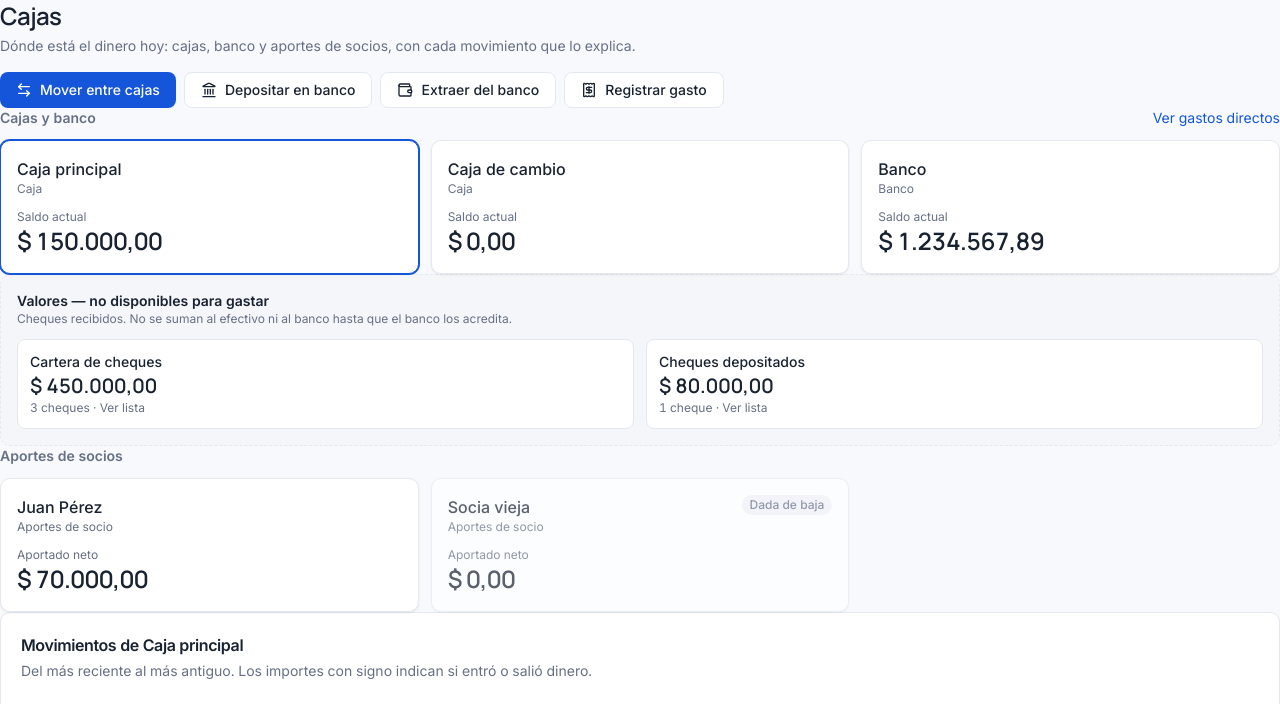
CashBoard › sends a transfer with its request id and business date, then reloads balances from the API
Click the button "Mover entre cajas".
click(88, 90)  # box [0,72,176,108]
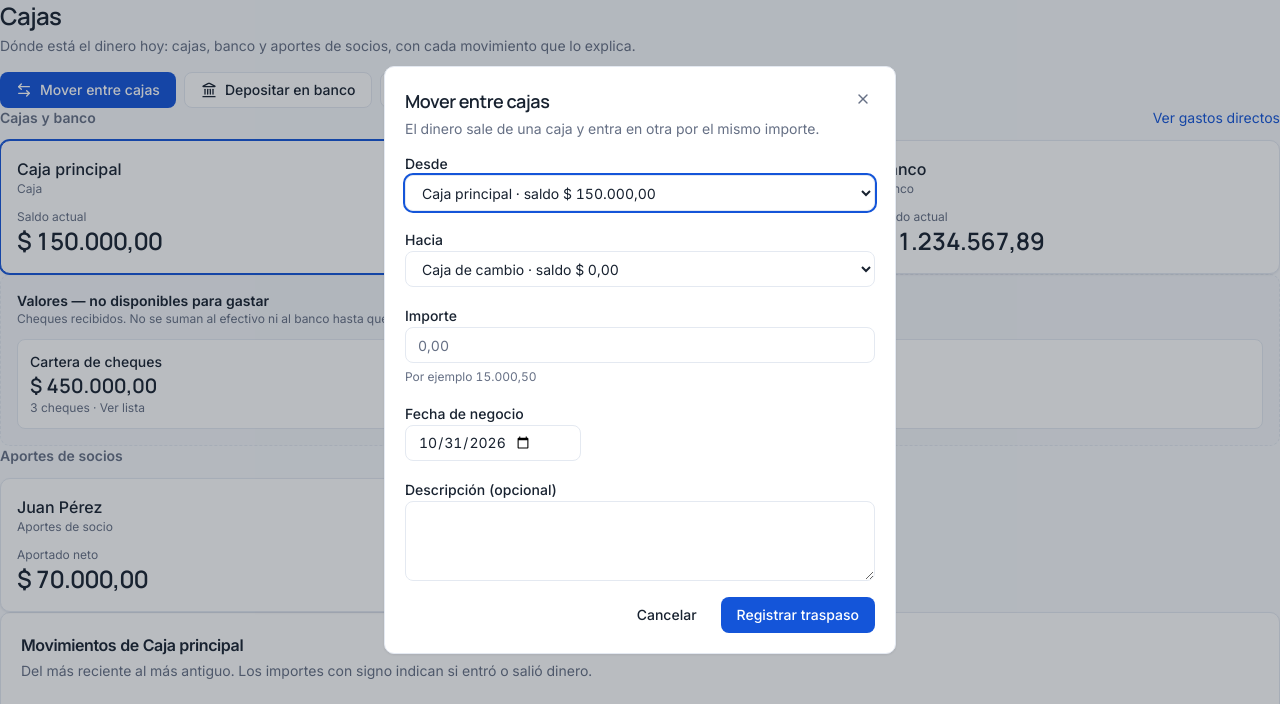
Type "1.500,50" into the field labelled "Importe".
click(640, 345); type("1.500,50")  # box [405,327,875,363]
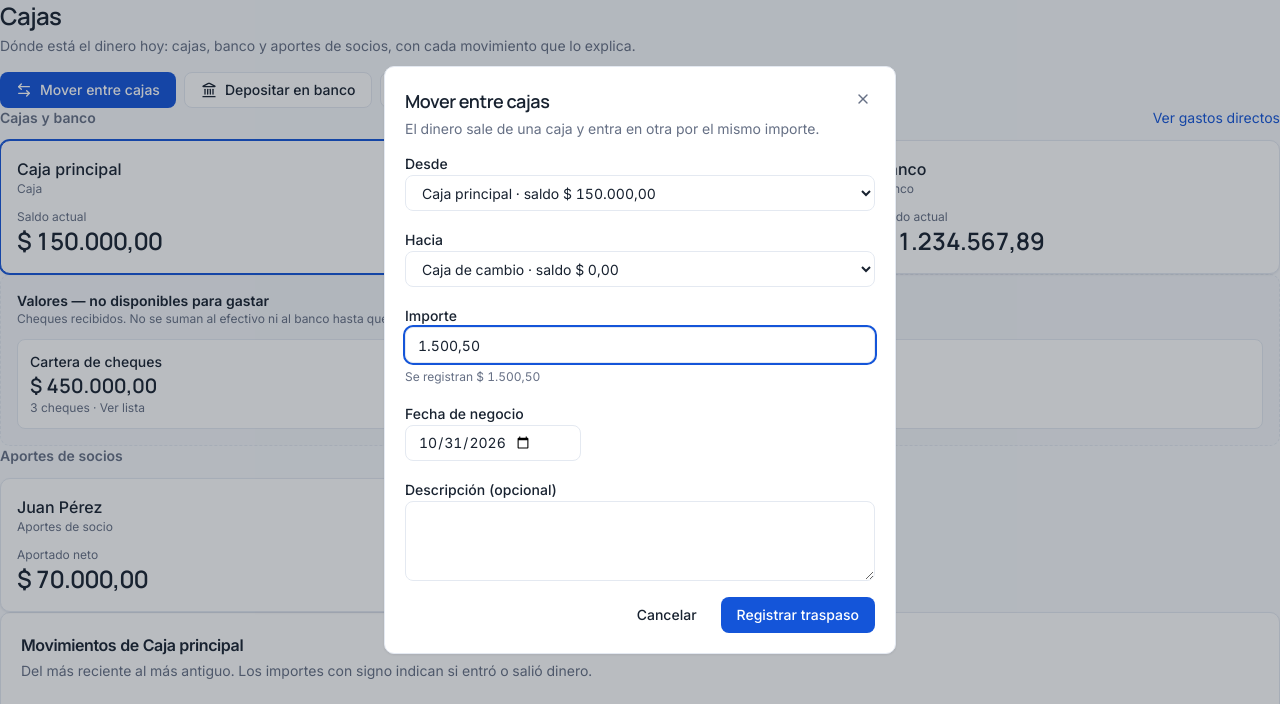
Result: the text "Se registran $ 1.500,50" is shown at [405,369,540,384]
Click the button "Registrar traspaso".
click(798, 615)  # box [721,597,875,633]
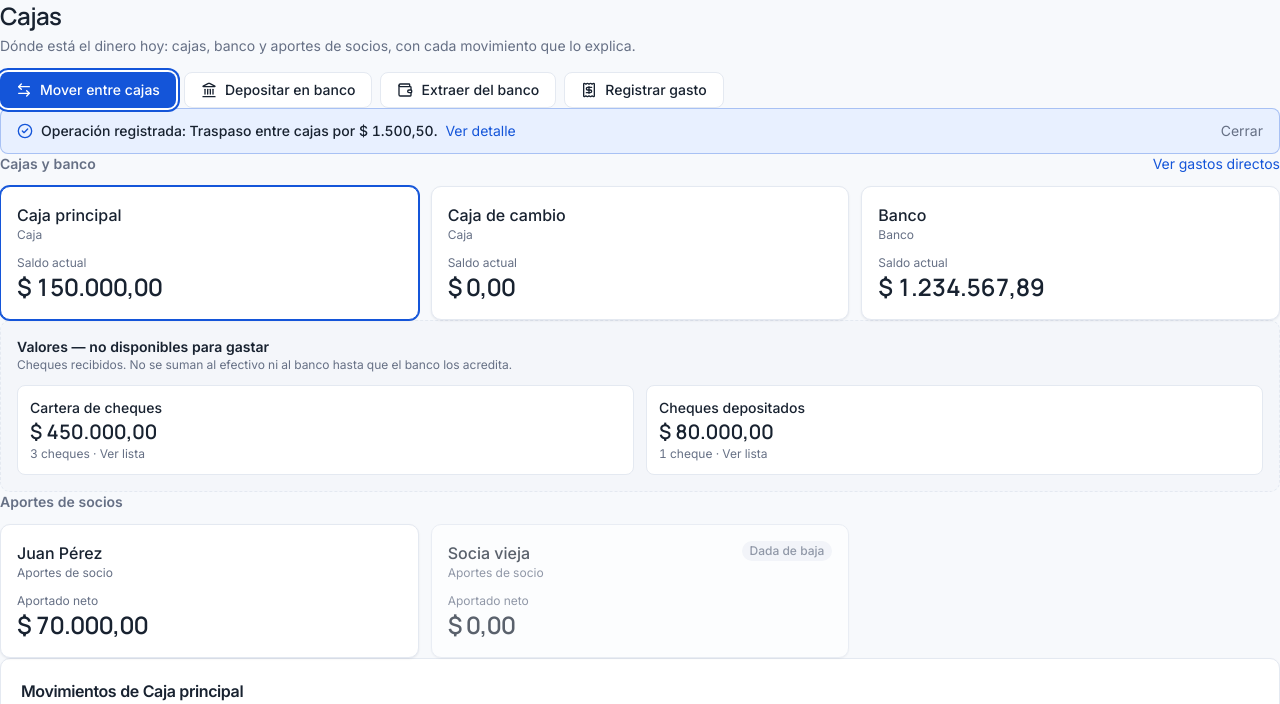
Result: the message shows "Operación registrada: Traspaso entre cajas por $ 1.500,50." at [41,122,437,139]
Result: the dialog is gone
